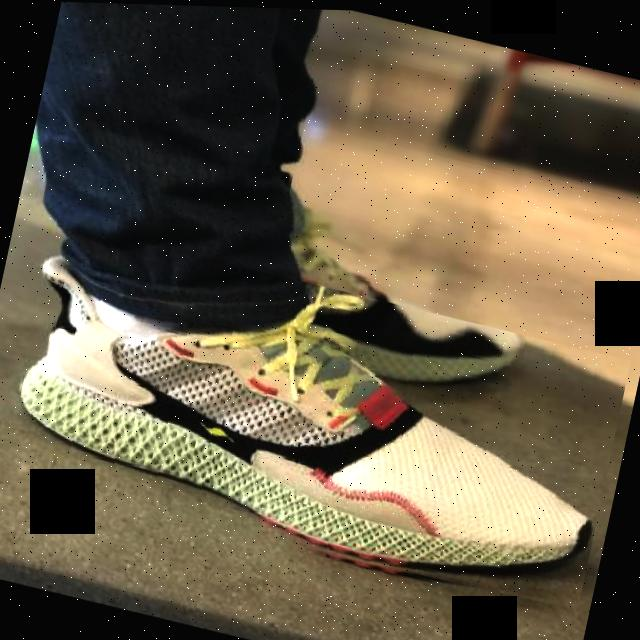shoe: (0, 218, 630, 620), (256, 192, 546, 414)
